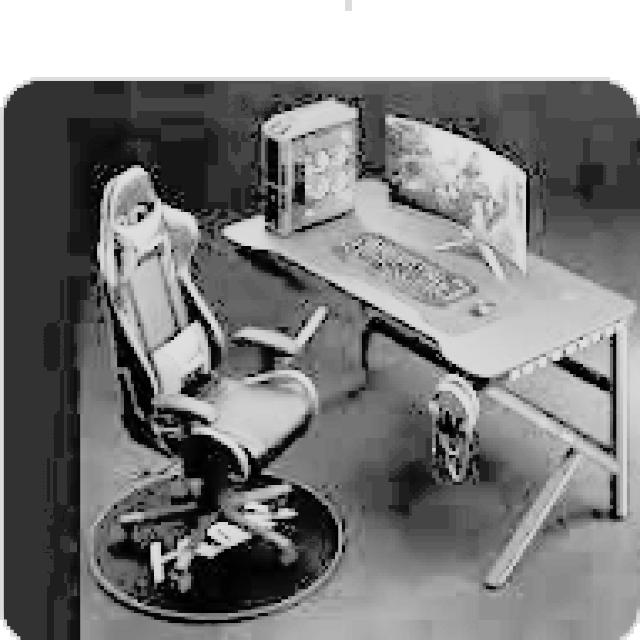book: (94, 162, 328, 593)
table: (195, 176, 624, 580)
